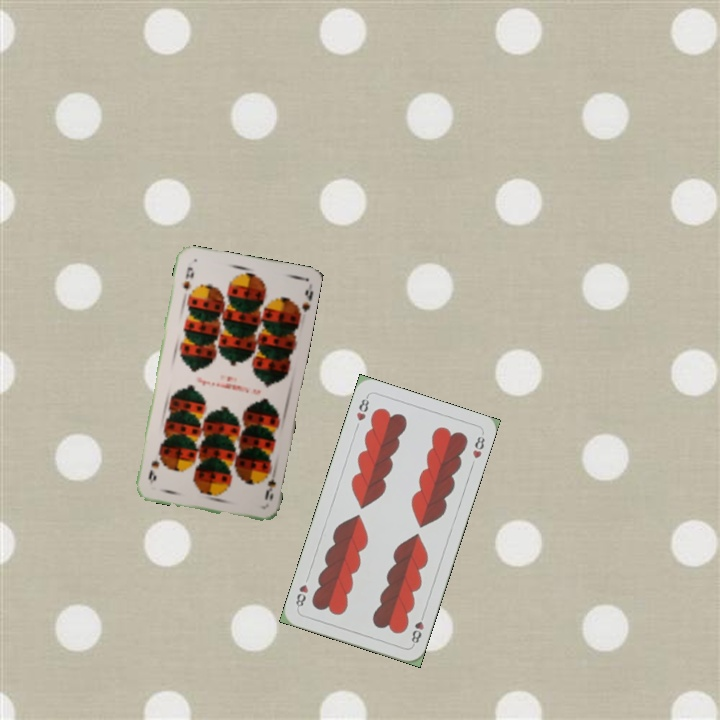H8: (407, 609, 427, 648), (352, 392, 372, 424)
S9: (260, 466, 278, 502), (179, 263, 196, 294)
